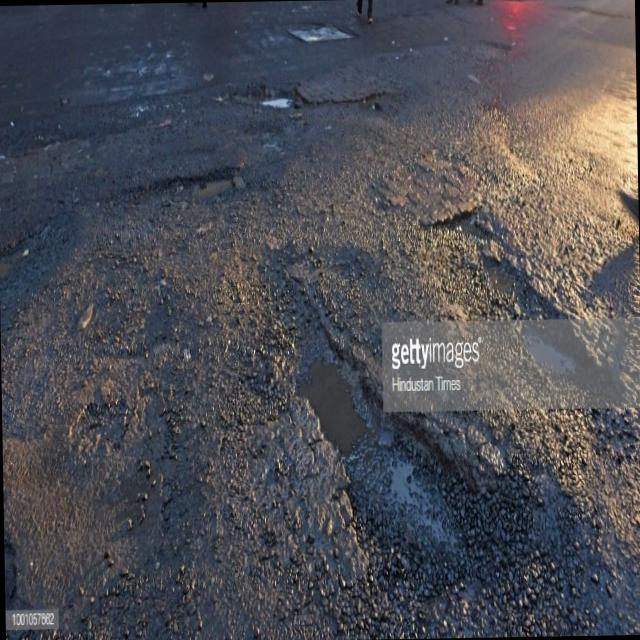Potholes: (256, 212, 504, 640), (448, 196, 621, 474), (53, 127, 260, 250), (242, 70, 326, 145), (280, 10, 352, 64)
